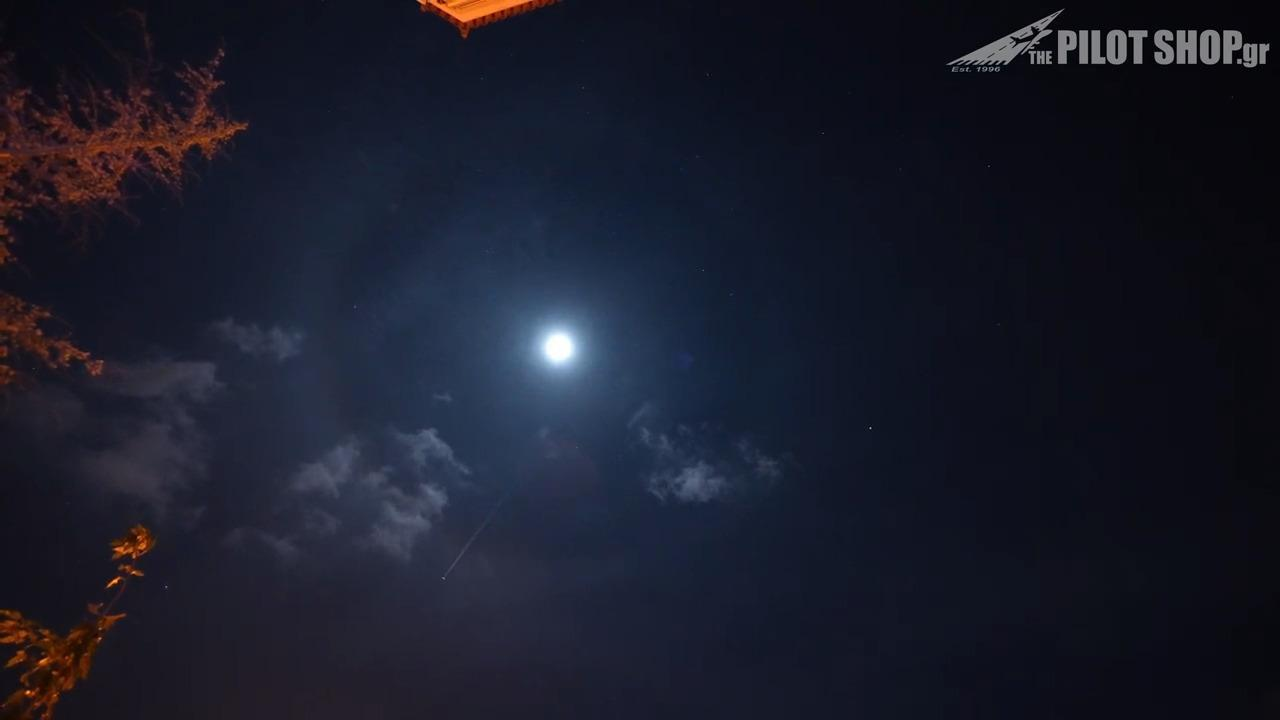Plane: (409, 506, 537, 595)
